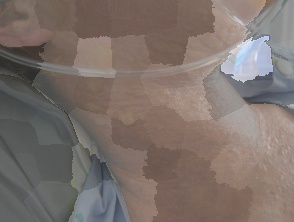SJS-TEN: (44, 14, 240, 169), (230, 115, 293, 221)
